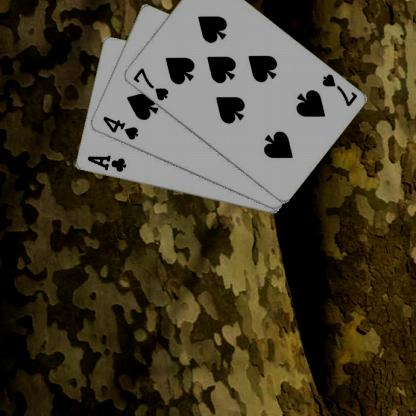4S: (100, 114, 139, 141)
7S: (319, 71, 358, 108), (130, 66, 170, 102)
AC: (84, 153, 126, 174)
